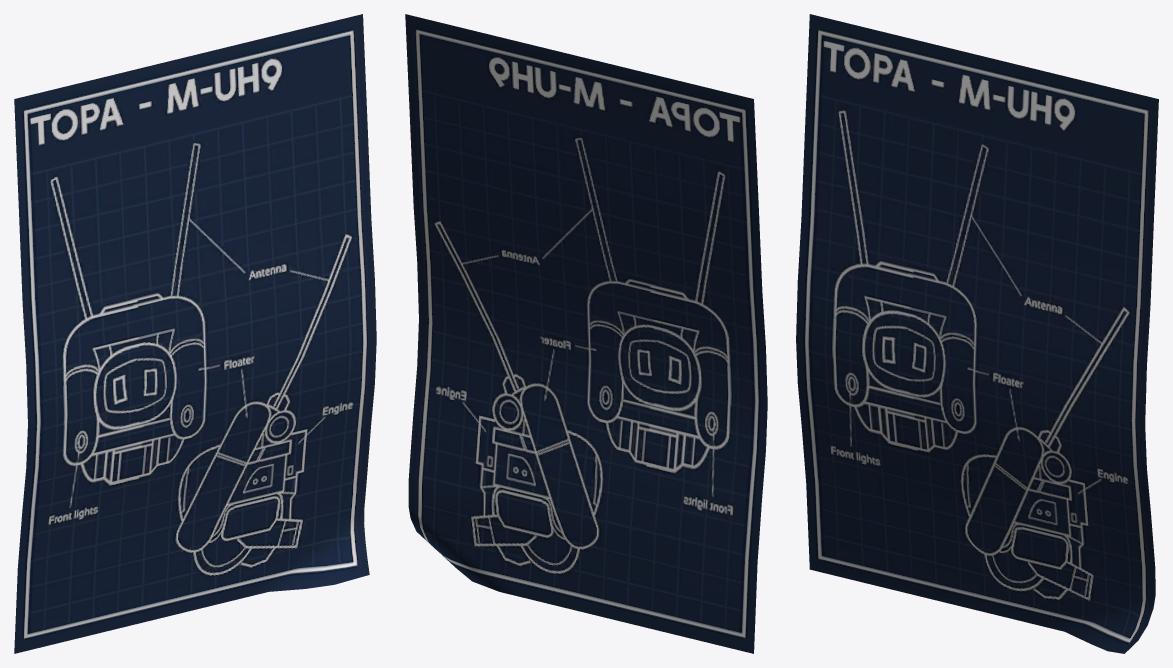
Rendered from poster_robot_repair_topa.dae.
3 views of the same model, side by side, from view 1: azimuth 30°, elevation 25°; view 2: azimuth 150°, elevation 25°; view 3: azimuth 330°, elevation 25° (orthographic).
Parts seen in each view (by area): view 1: topa; view 2: topa; view 3: topa.
Boxes of the visible parts, <box> form: topa: <box>14,14,376,653</box>; topa: <box>405,14,767,653</box>; topa: <box>796,14,1158,653</box>.
Bounding box in the file's own units: 0.6577 × 1 × 0.0671.
